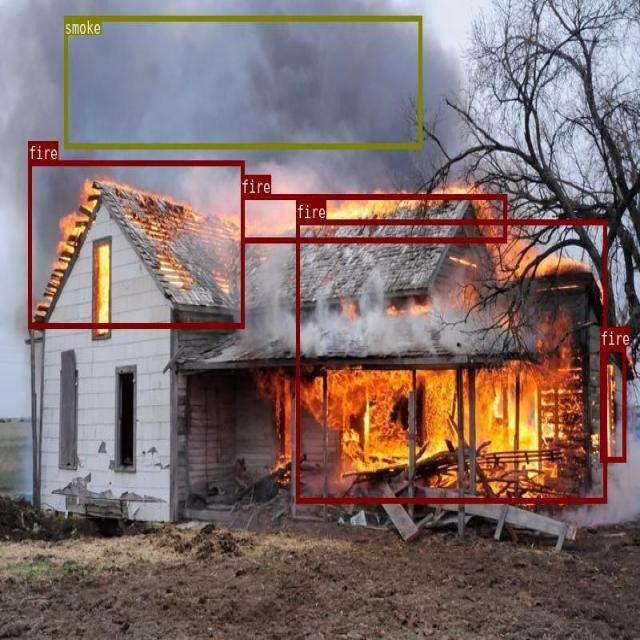fire: (296, 219, 606, 502), (28, 160, 244, 328), (240, 194, 506, 241), (600, 346, 625, 461)
smoke: (64, 15, 421, 148)
